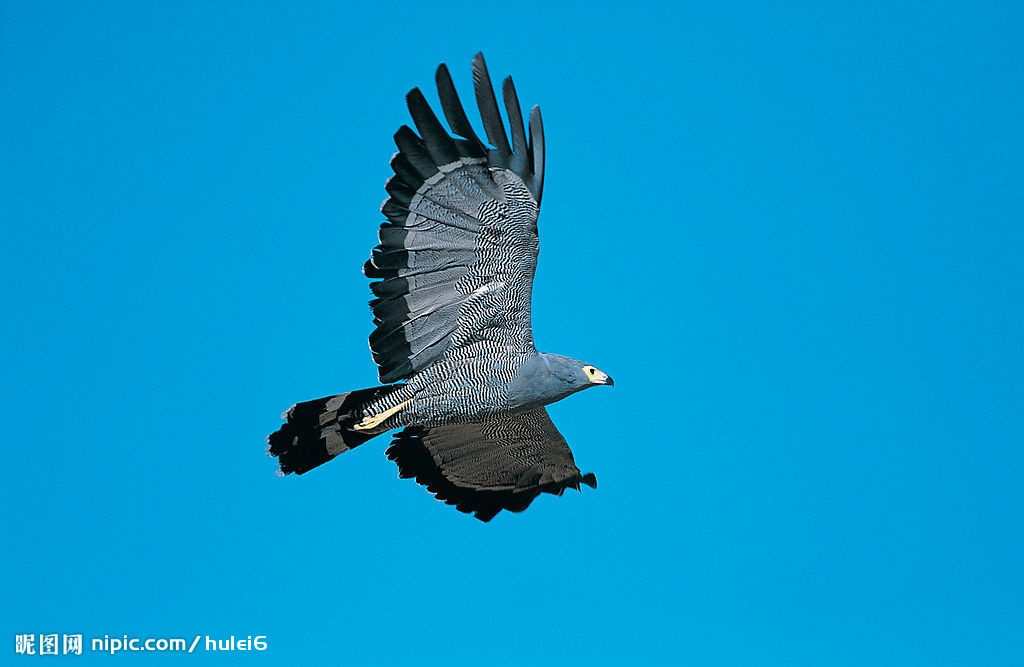bird: (248, 53, 620, 525)
